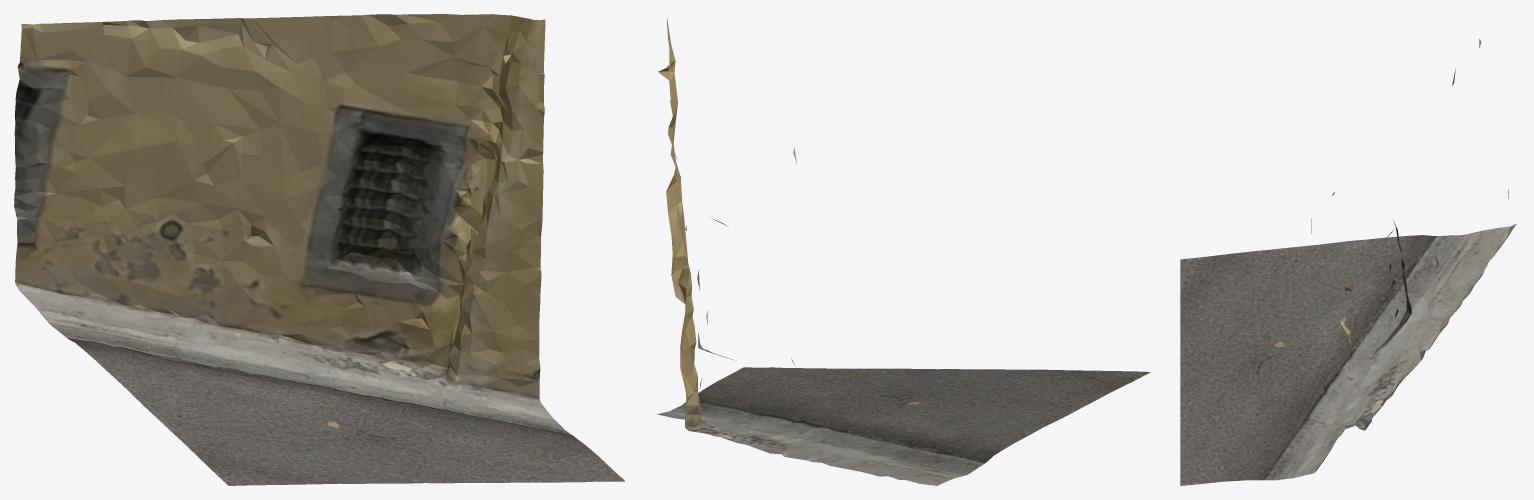
3 renders of one model, left to right at view 1: azimuth 30°, elevation 25°; view 2: azimuth 150°, elevation 25°; view 3: azimuth 270°, elevation 25°, orthographic. The views are drawn at different scales.
Bounding box in the file's own units: 3.35 × 3.25 × 3.13.
4 materials, 4 textured.
